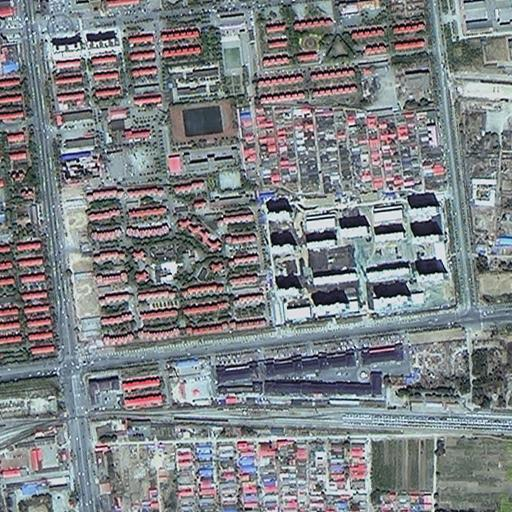school: (161, 95, 243, 180), (159, 26, 250, 97)
